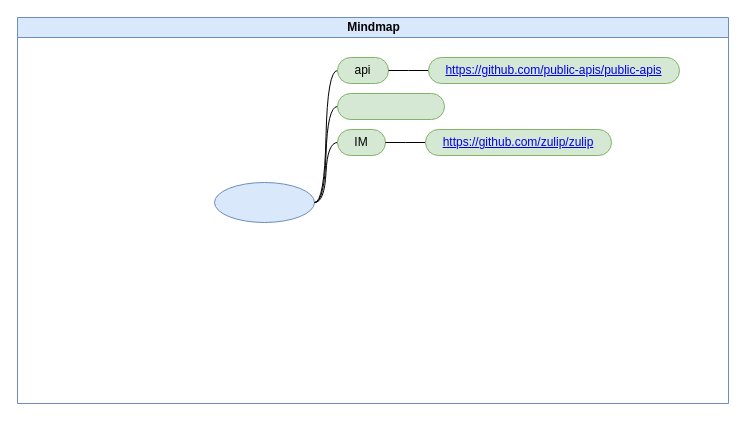
Image size: 746x421. Some labels were removed from this diagram. The centre of each missing label's shape, as x and y in pixels:
推荐学习: the point at 264,202
网络数据分析: the point at 390,106
